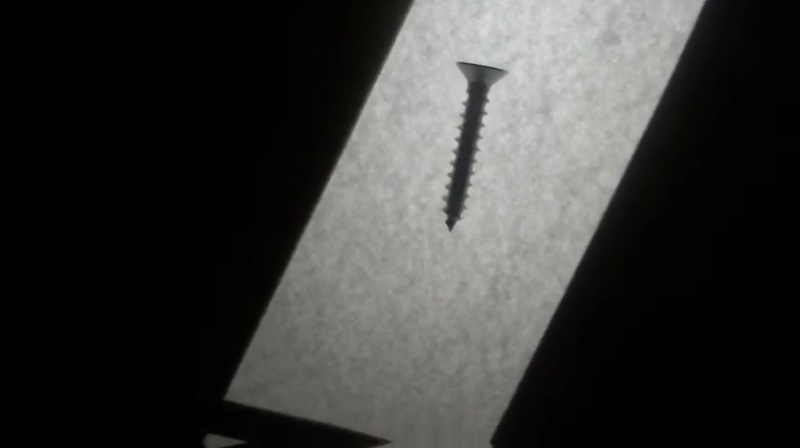S001: (439, 55, 510, 235)
